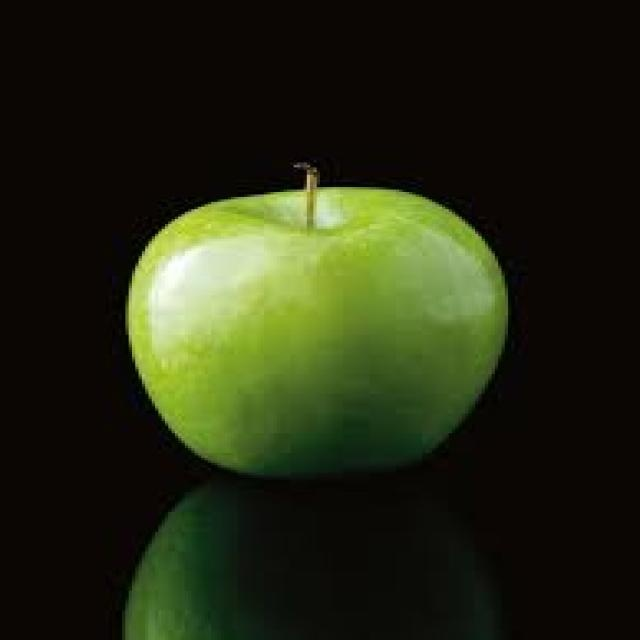agrume: (78, 139, 529, 495)
